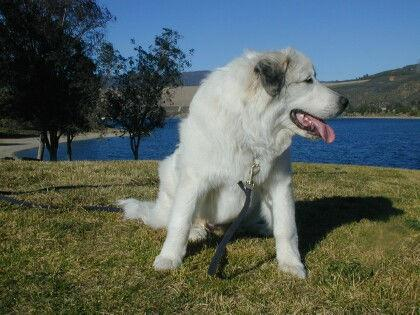dog-great_pyrenees: (252, 47, 348, 141)
